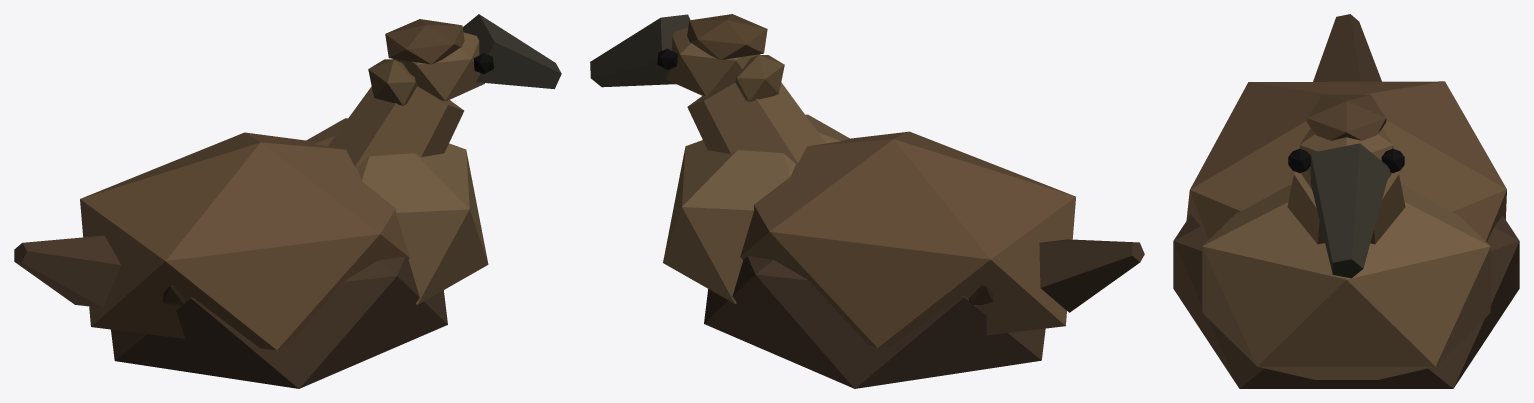
Rendered from eider_duck.glb.
The picture shows the model from 3 angles, left to right: view 1: azimuth 30°, elevation 25°; view 2: azimuth 150°, elevation 25°; view 3: azimuth 270°, elevation 25°; orthographic projection. The views are drawn at different scales.
Parts seen in each view (by area): view 1: eider_duck; view 2: eider_duck; view 3: eider_duck.
Part boxes in pixels (<box>): eider_duck: <box>14,14,561,388</box>; eider_duck: <box>590,14,1144,388</box>; eider_duck: <box>1173,14,1519,388</box>.
Size of the model in its own units: 0.8554 by 0.475 by 0.4083.
